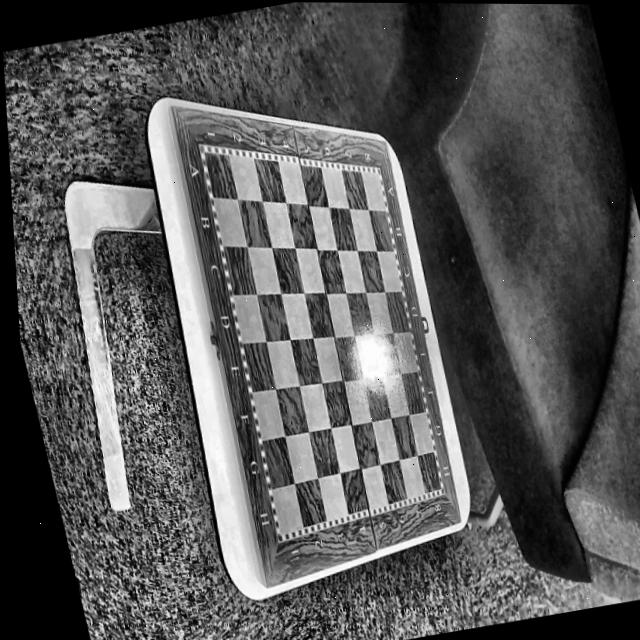chessboard: (204, 153, 440, 534)
